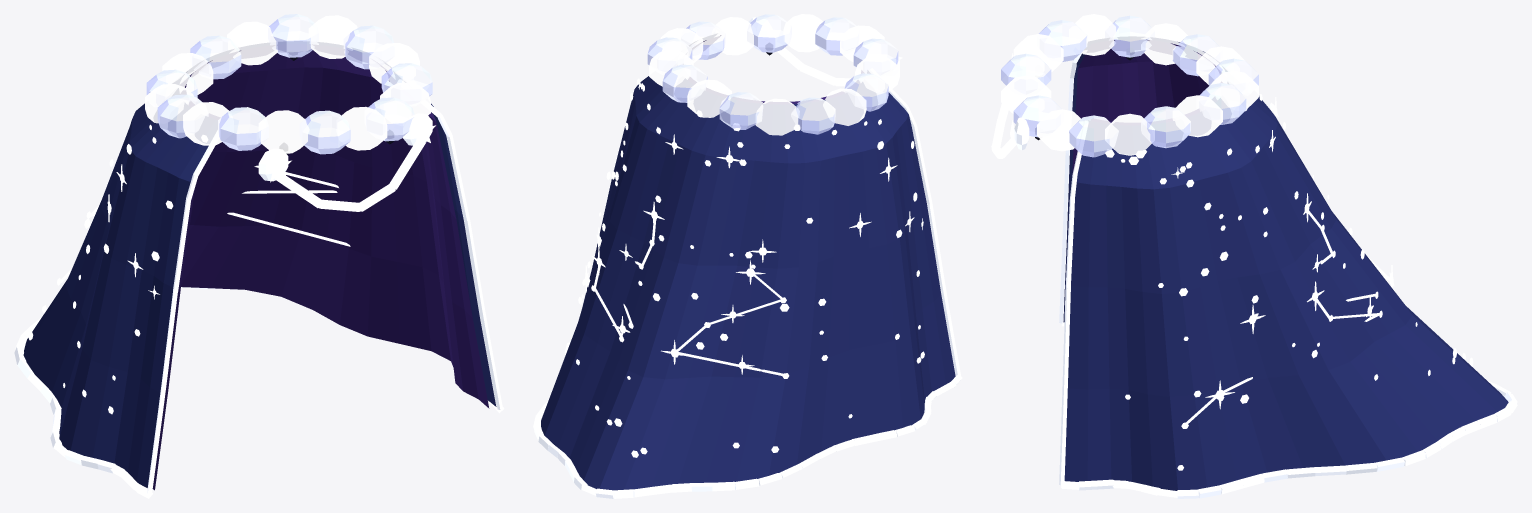
Rendered from lord_long_table_mantle.glb.
The picture shows the model from 3 angles, left to right: view 1: azimuth 30°, elevation 25°; view 2: azimuth 150°, elevation 25°; view 3: azimuth 270°, elevation 25°; orthographic projection. The views are drawn at different scales.
Parts seen in each view (by area): view 1: lord_long_table_mantle; view 2: lord_long_table_mantle; view 3: lord_long_table_mantle.
Boxes of the visible parts, x1,y1,x2,y2 form: lord_long_table_mantle: (14, 14, 504, 498); lord_long_table_mantle: (533, 14, 962, 498); lord_long_table_mantle: (991, 14, 1517, 498).
Size of the model in its own units: 1.67 by 1.45 by 2.
